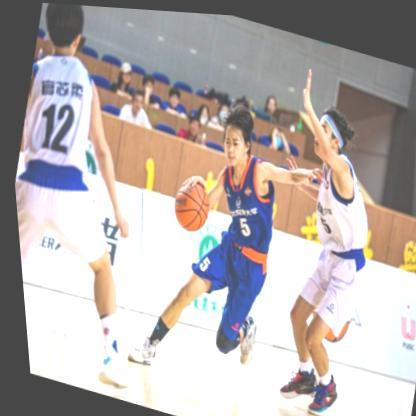basketball: (164, 176, 213, 234)
